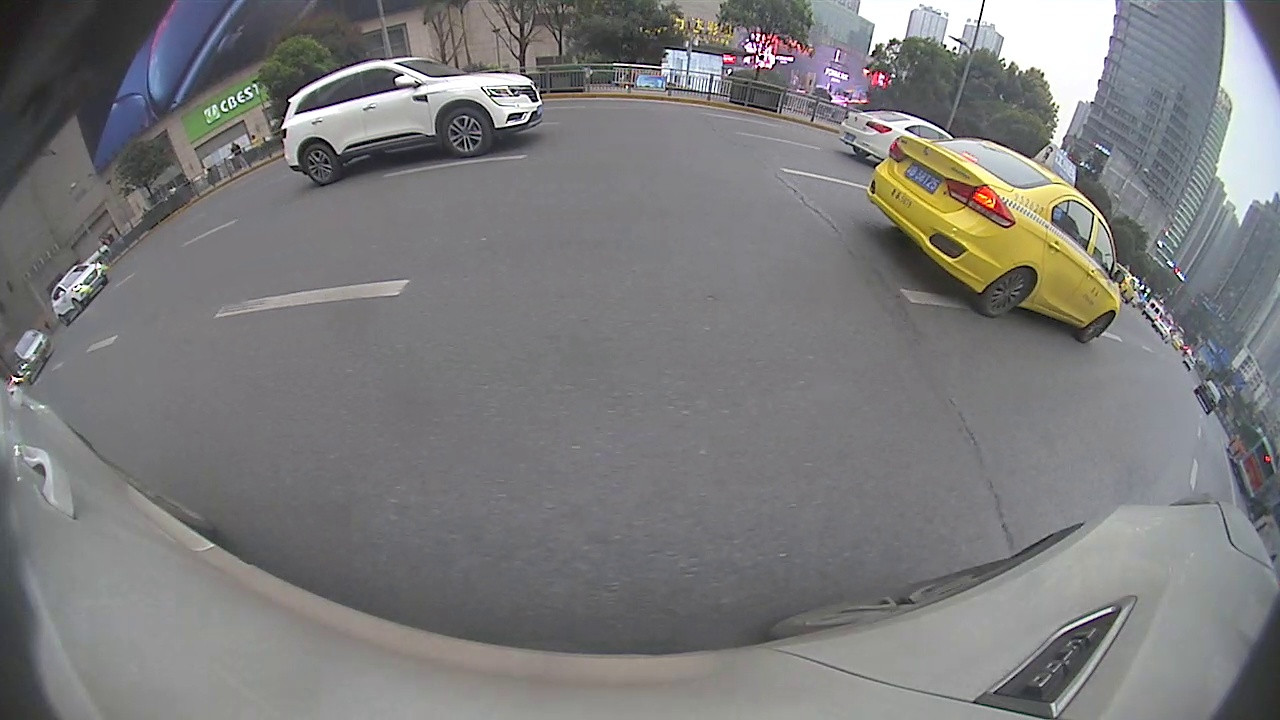car: (865, 141, 1123, 344), (278, 54, 544, 186), (836, 108, 955, 163), (48, 261, 108, 328)
front: (438, 105, 490, 158), (1077, 311, 1115, 343), (69, 298, 85, 314)
rear: (976, 267, 1036, 318), (298, 143, 340, 188)
